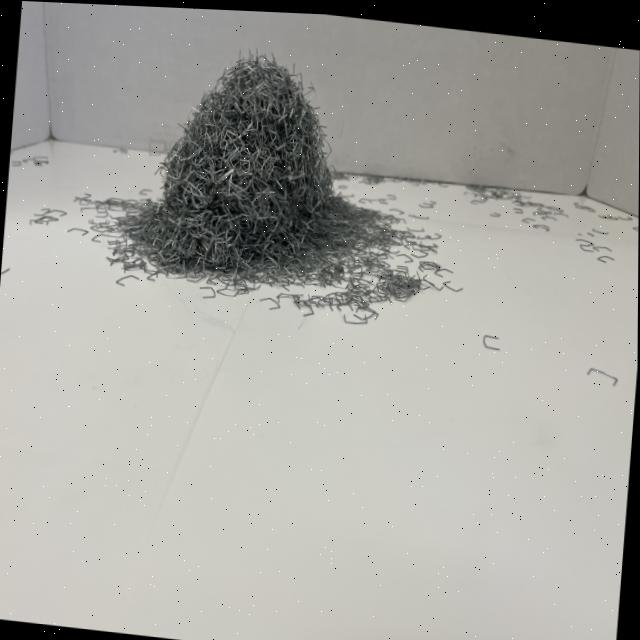staples: (122, 34, 360, 292)
